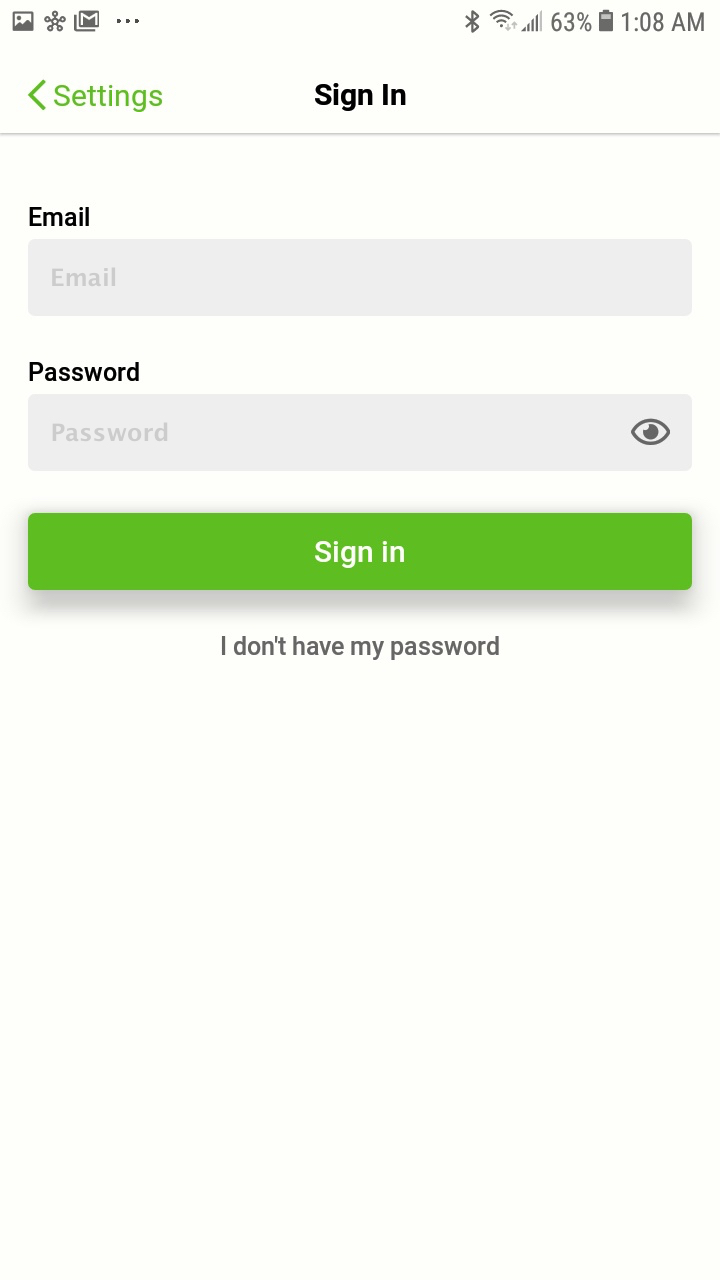EditText: (28, 239, 692, 318), (28, 394, 692, 472)
Icon: (630, 419, 671, 446), (28, 80, 47, 112)
Text: (222, 636, 500, 661), (54, 85, 163, 113), (315, 83, 406, 112), (52, 423, 168, 443), (30, 362, 140, 382), (53, 267, 117, 288), (30, 207, 91, 227)
TextButton: (28, 513, 692, 591)
UpperTaskBar: (1, 1, 720, 35)
